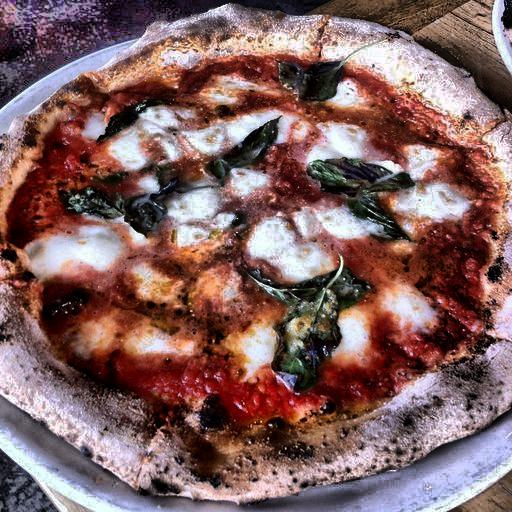pizza: (8, 17, 512, 487)
